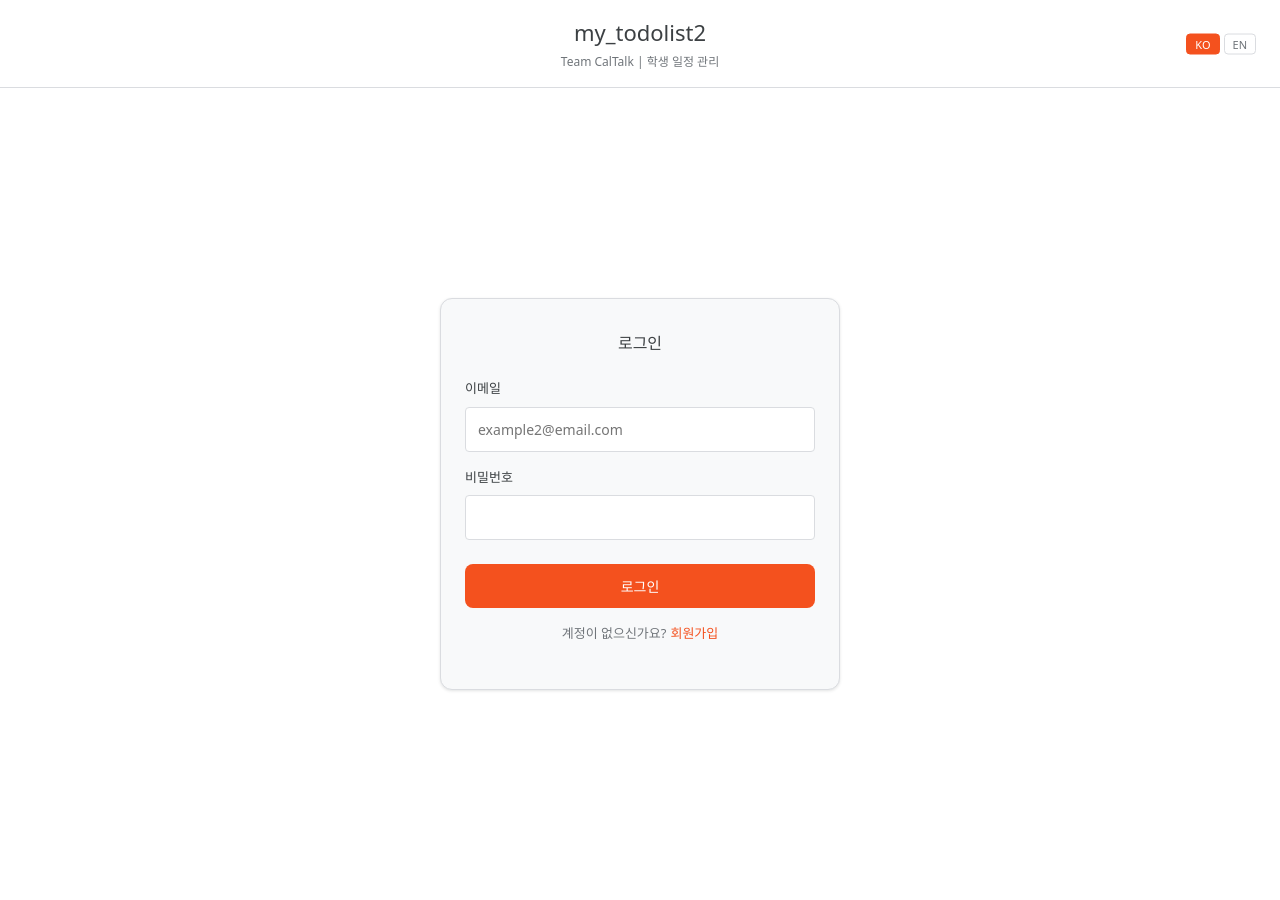
Test case: 폼 제출 - 로그인 실패 (AC-04) › 401 에러 시 에러 배너가 표시되고 비밀번호 필드가 초기화된다
Type "user@example.com" into the field labelled "이메일".
click(640, 429); type("user@example.com")  # box 465,407 -> 815,452
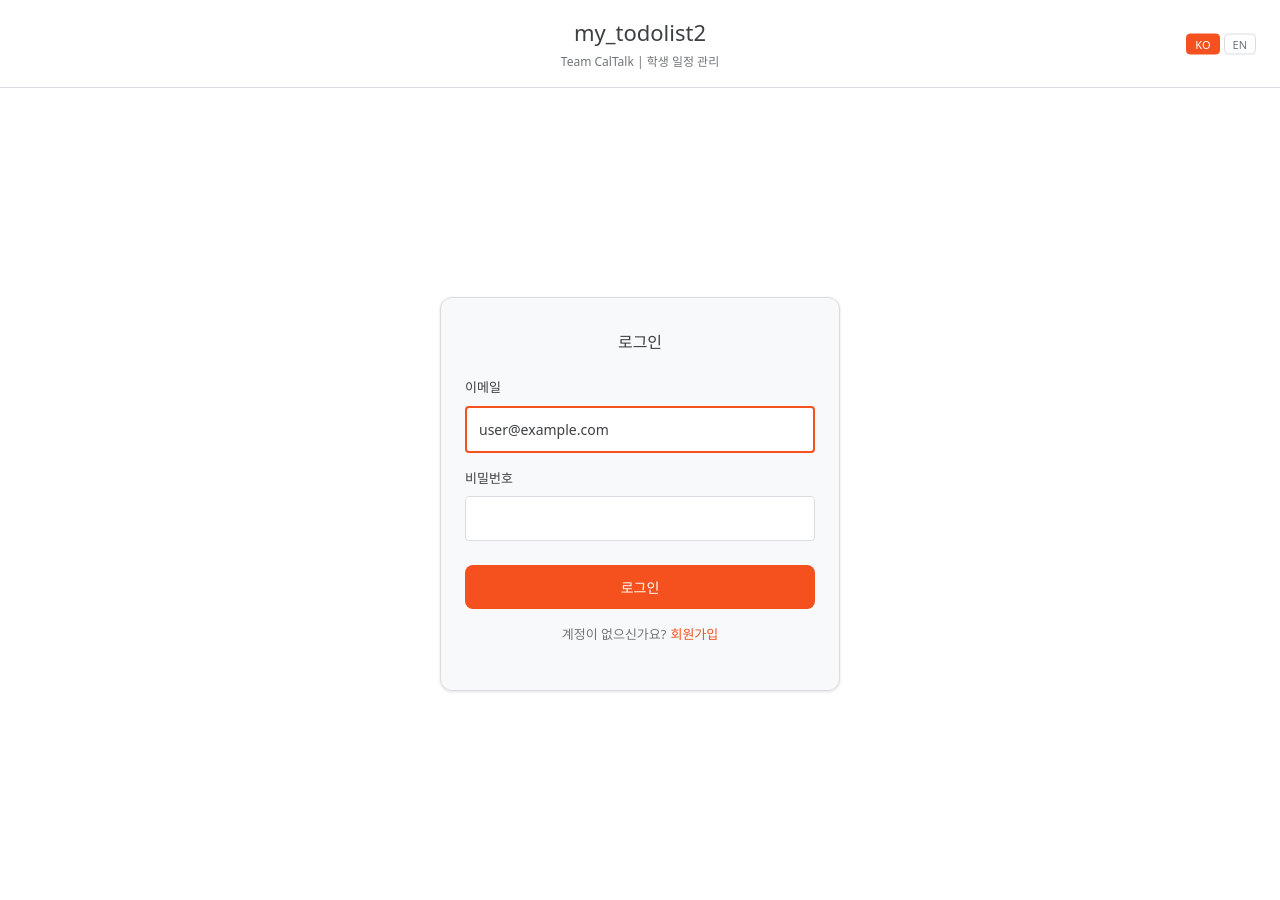
Type "wrongpass" into the password field labelled "비밀번호".
click(640, 519); type("wrongpass")  # box 465,496 -> 815,541
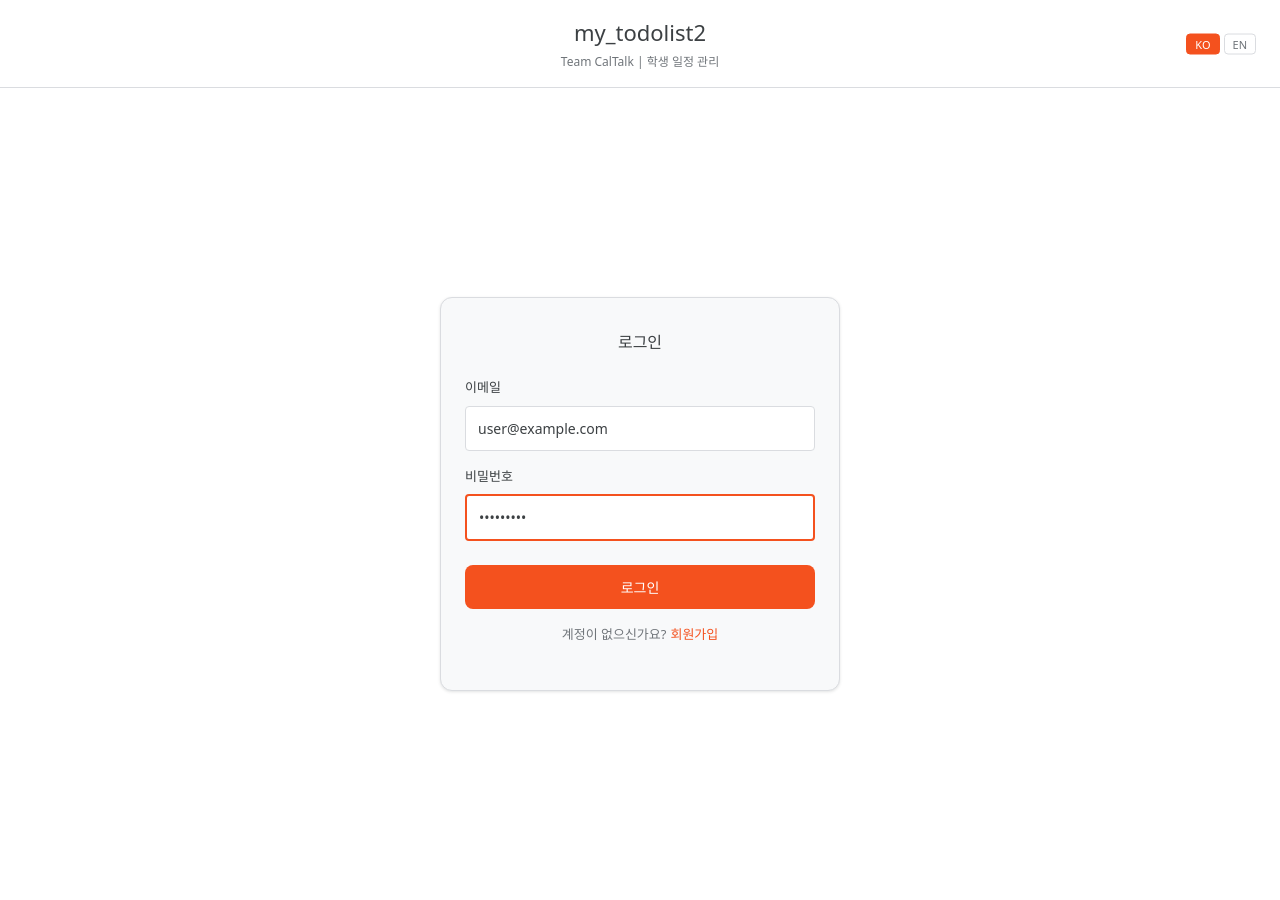
Click the button "로그인".
click(640, 587)  # box 465,565 -> 815,609
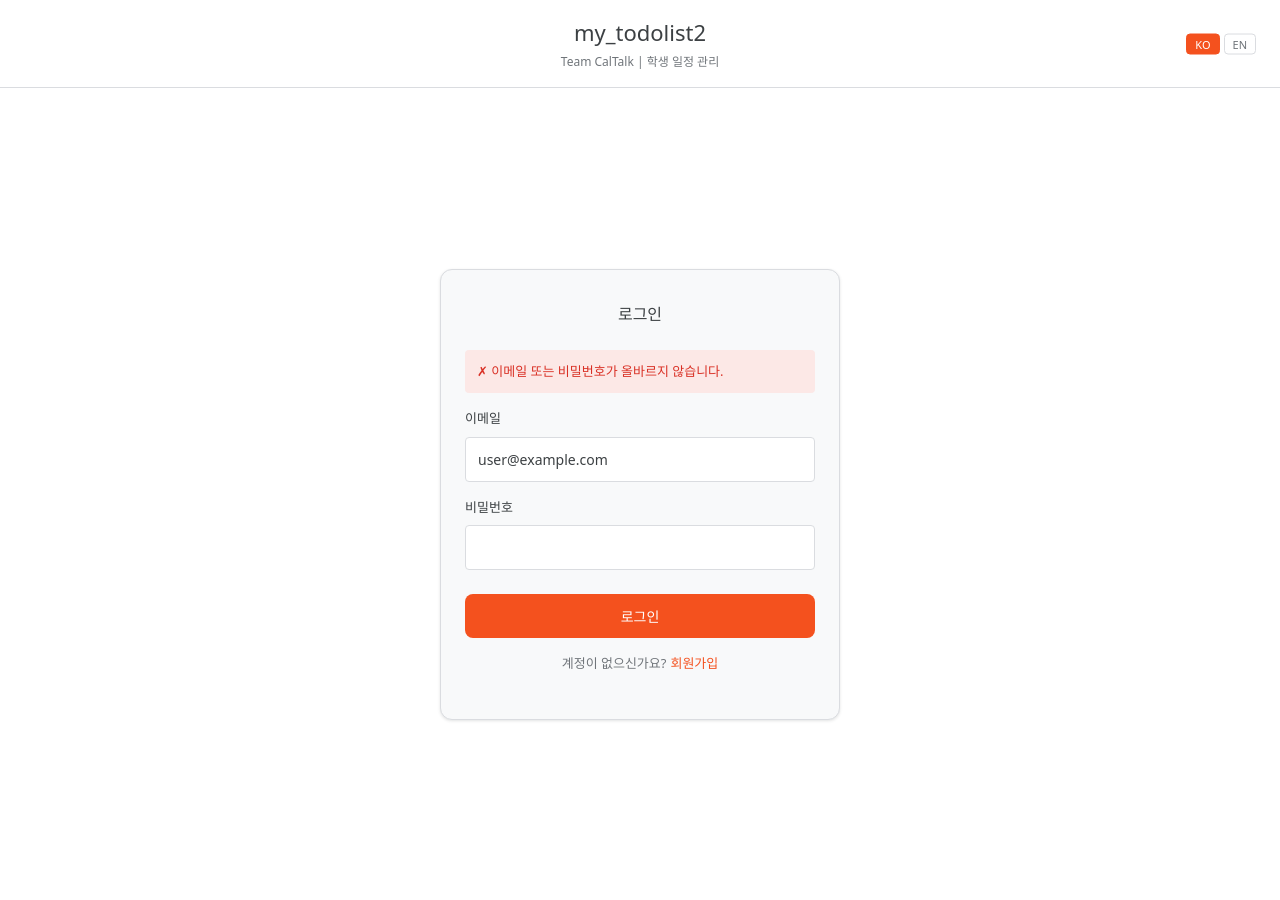
Check: the message "✗ 이메일 또는 비밀번호가 올바르지 않습니다." is shown, box 465,350 -> 815,393
Check: the message shows "이메일 또는 비밀번호가 올바르지 않습니다.", box 491,362 -> 724,380
Check: the password field labelled "비밀번호" is empty, box 465,525 -> 815,570
